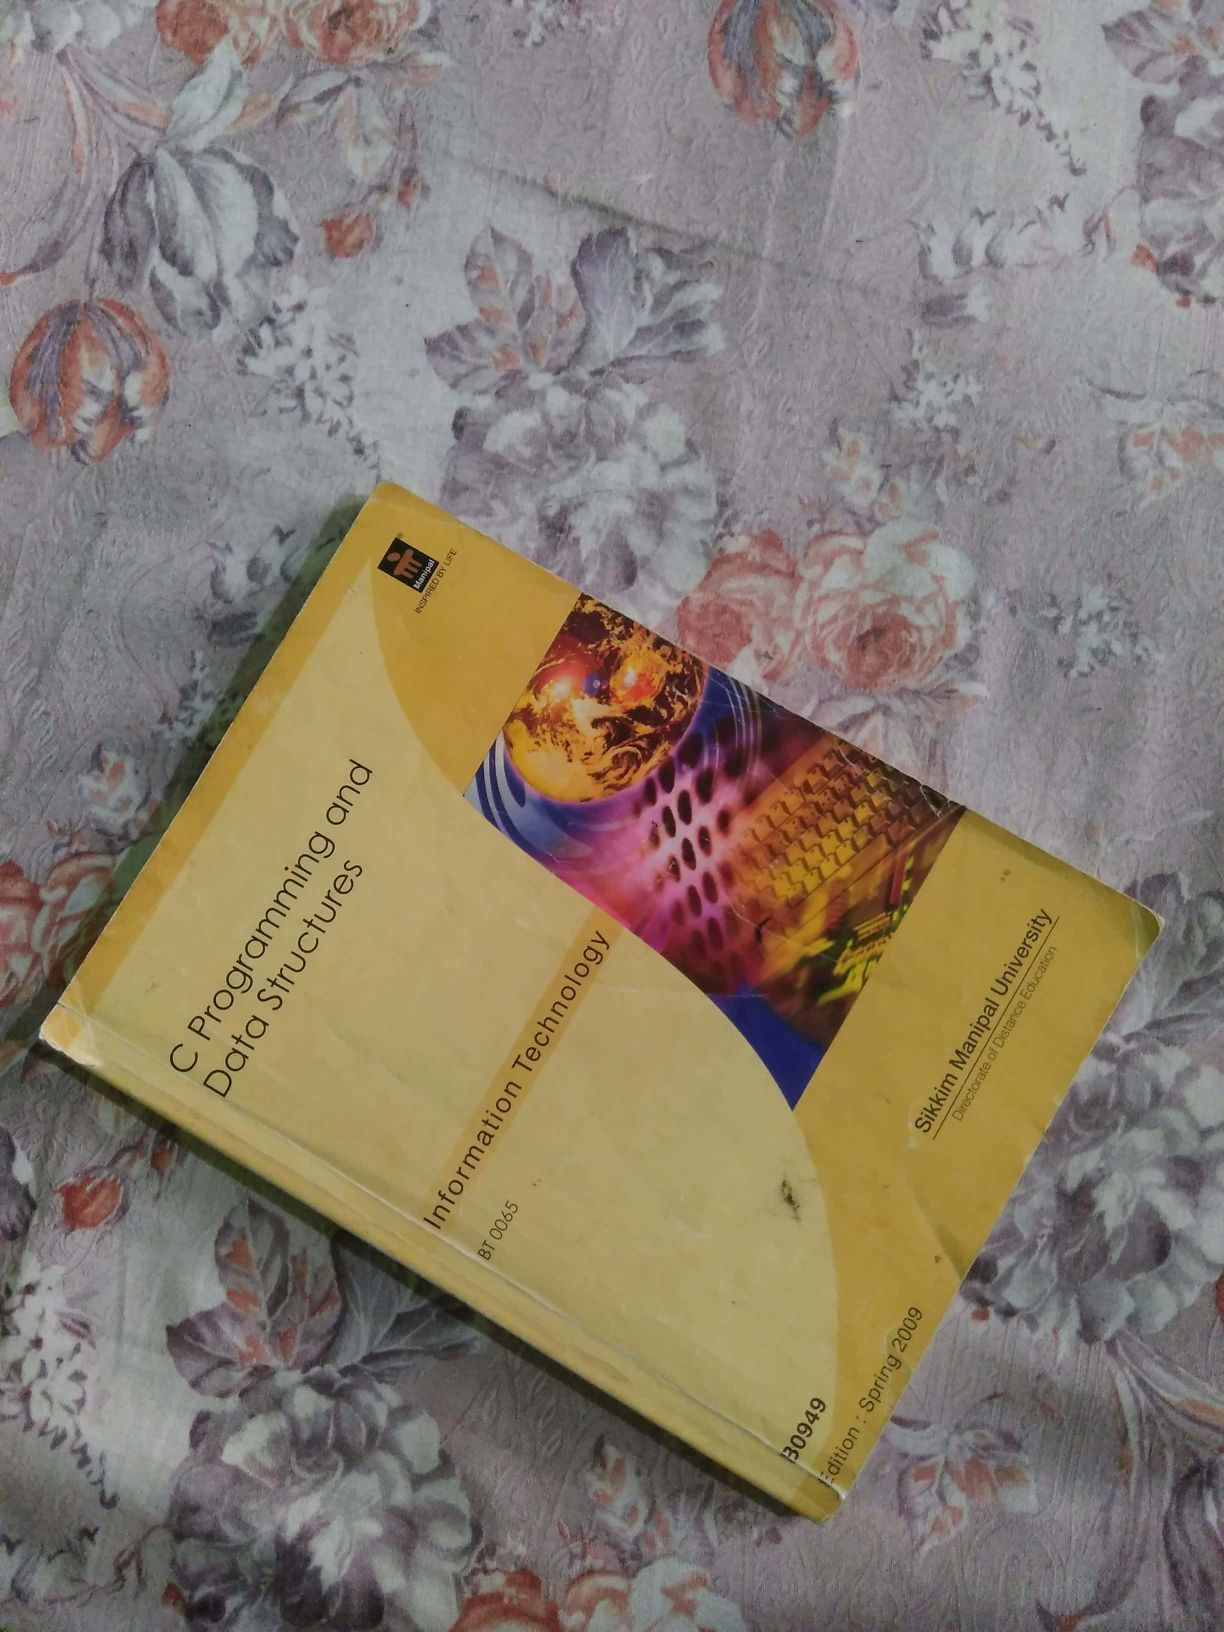clang: (64, 463, 1188, 1530)
